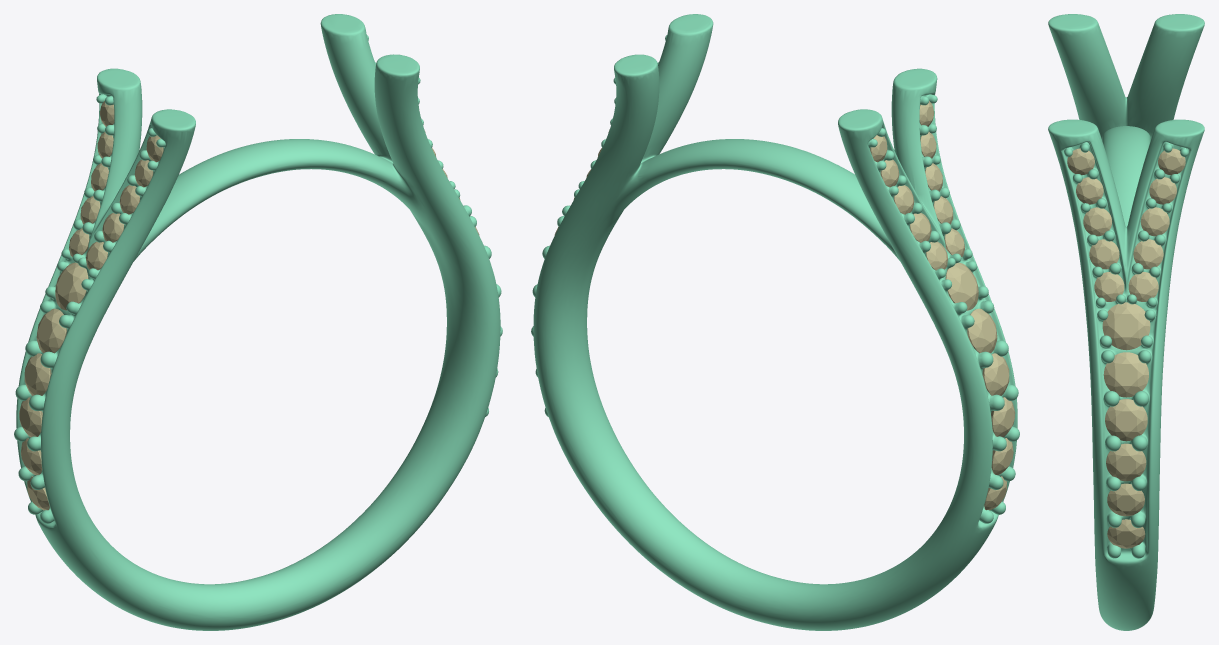
The picture shows the model from 3 angles, left to right: view 1: azimuth 30°, elevation 25°; view 2: azimuth 150°, elevation 25°; view 3: azimuth 270°, elevation 25°; orthographic projection. The views are drawn at different scales.
Visible parts, largest first — view 1: Metal02, Diamond_Gem.015, Diamond_Gem.014, Diamond_Gem.013; view 2: Metal02, Diamond_Gem.015, Diamond_Gem.014, Diamond_Gem.013; view 3: Metal02, Diamond_Gem.016, Diamond_Gem.017, Diamond_Gem.018, Diamond_Gem.021, Diamond_Gem.019, Diamond_Gem.020, Diamond_Gem.023, Diamond_Gem.028, Diamond_Gem.030, Diamond_Gem.031, Diamond_Gem.022 (+5 smaller).
Boxes of the visible parts, x1,y1,x2,y2 form: Metal02: (14,14,502,630); Diamond_Gem.015: (55,262,88,310); Diamond_Gem.014: (36,308,66,353); Diamond_Gem.013: (24,353,51,395); Metal02: (531,14,1019,630); Diamond_Gem.015: (945,262,978,310); Diamond_Gem.014: (967,308,997,353); Diamond_Gem.013: (982,353,1009,395); Metal02: (1048,14,1204,630); Diamond_Gem.016: (1102,302,1150,350); Diamond_Gem.017: (1103,352,1148,397); Diamond_Gem.018: (1105,399,1147,441); Diamond_Gem.021: (1106,443,1146,481); Diamond_Gem.019: (1107,483,1144,516); Diamond_Gem.020: (1107,519,1145,548); Diamond_Gem.023: (1133,239,1163,269); Diamond_Gem.028: (1089,239,1119,269); Diamond_Gem.030: (1094,272,1124,301); Diamond_Gem.031: (1128,272,1158,301); Diamond_Gem.022: (1140,207,1169,236).
Size of the model in its own units: 20.99 by 23.33 by 6.23.
